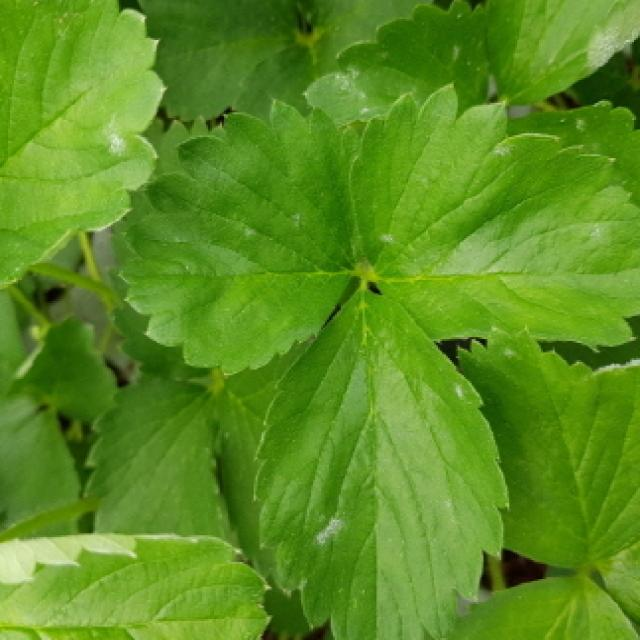Powdery Mildew Leaf: (250, 284, 512, 640), (348, 85, 640, 353), (455, 327, 640, 569), (303, 0, 497, 125), (481, 0, 640, 105)
